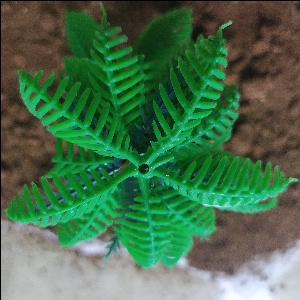plant: (14, 19, 275, 293)
